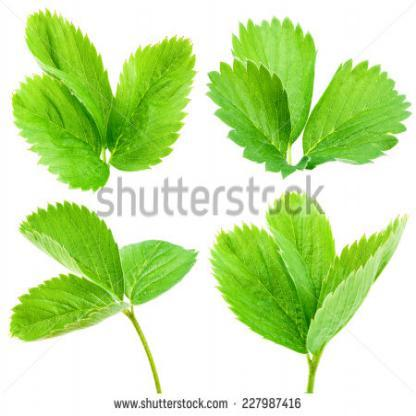Strawberry leaf: (214, 221, 320, 354), (22, 5, 119, 142), (104, 34, 196, 164), (305, 61, 411, 171), (228, 7, 308, 151), (21, 198, 124, 294), (8, 277, 126, 344), (120, 229, 202, 311)
